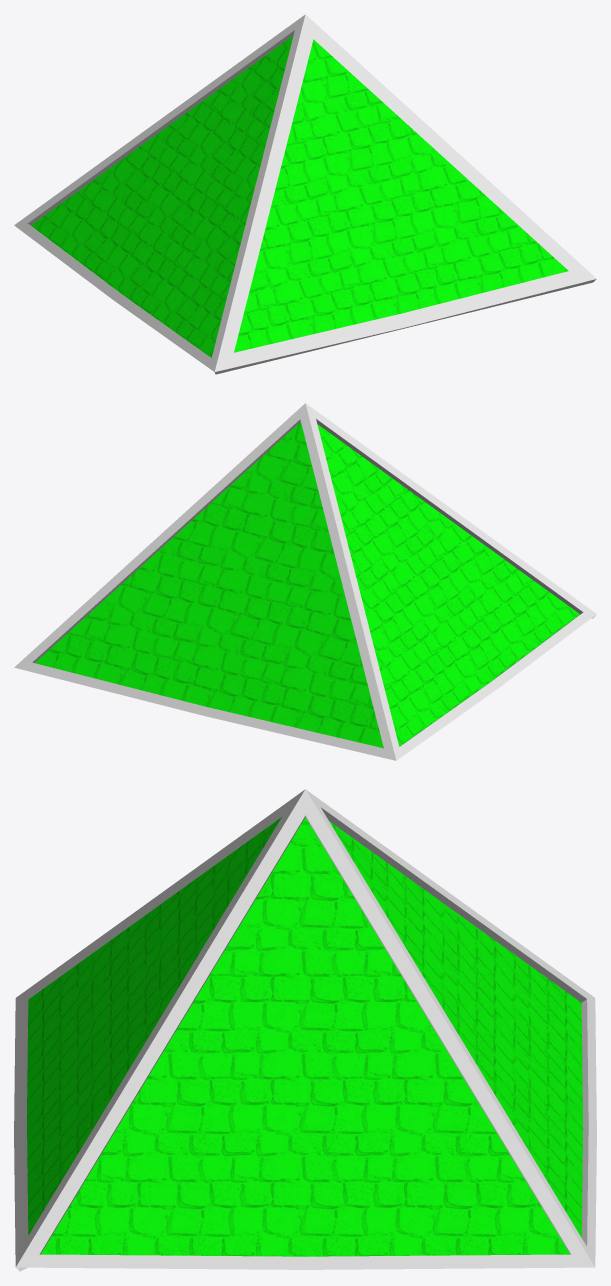
3 renders of one model, top to bottom at view 1: azimuth 30°, elevation 25°; view 2: azimuth 150°, elevation 25°; view 3: azimuth 270°, elevation 25°, orthographic. The views are drawn at different scales.
Parts seen in each view (by area): view 1: 별관 왼쪽 몸통 지붕block, 별관 왼쪽 몸통 지붕001; view 2: 별관 왼쪽 몸통 지붕block, 별관 왼쪽 몸통 지붕001; view 3: 별관 왼쪽 몸통 지붕block, 별관 왼쪽 몸통 지붕001.
Boxes of the visible parts, <box> form: 별관 왼쪽 몸통 지붕block: <box>31,35,568,357</box>; 별관 왼쪽 몸통 지붕001: <box>14,14,596,374</box>; 별관 왼쪽 몸통 지붕block: <box>35,422,579,748</box>; 별관 왼쪽 몸통 지붕001: <box>14,403,596,760</box>; 별관 왼쪽 몸통 지붕block: <box>27,817,583,1256</box>; 별관 왼쪽 몸통 지붕001: <box>14,789,596,1271</box>.
Bounding box in the file's own units: 421 × 253 × 383.
